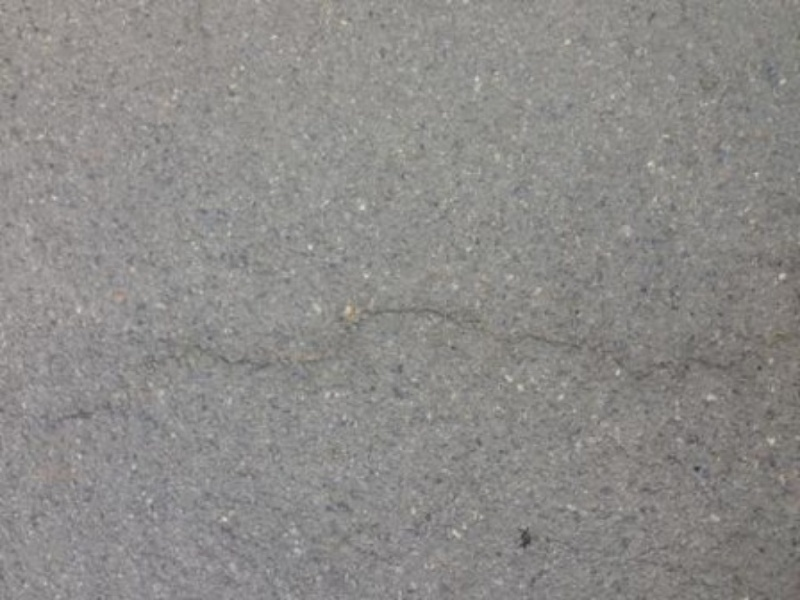crack: (149, 285, 747, 380)
